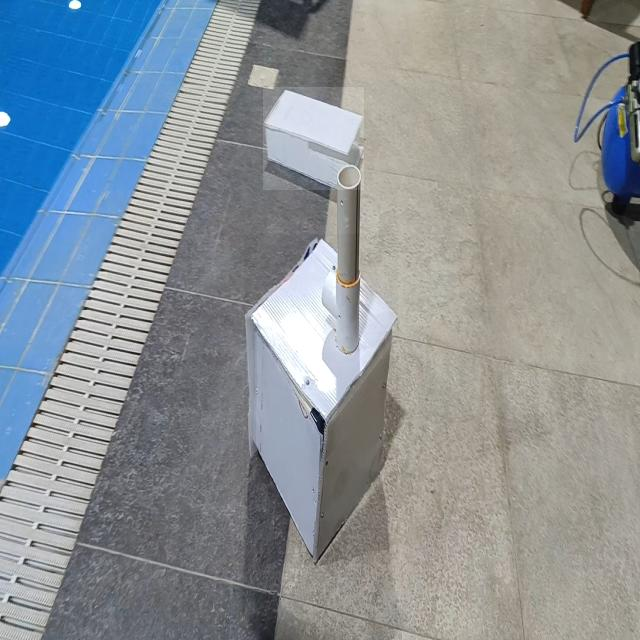Cube: (244, 235, 398, 564)
Cuboid: (263, 87, 364, 190)
